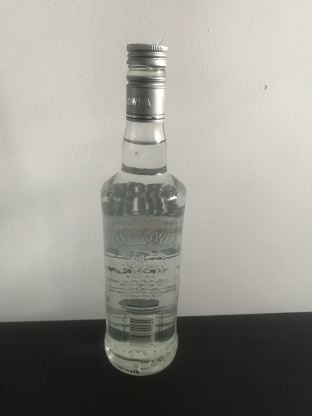nakretka: (124, 38, 168, 123)
